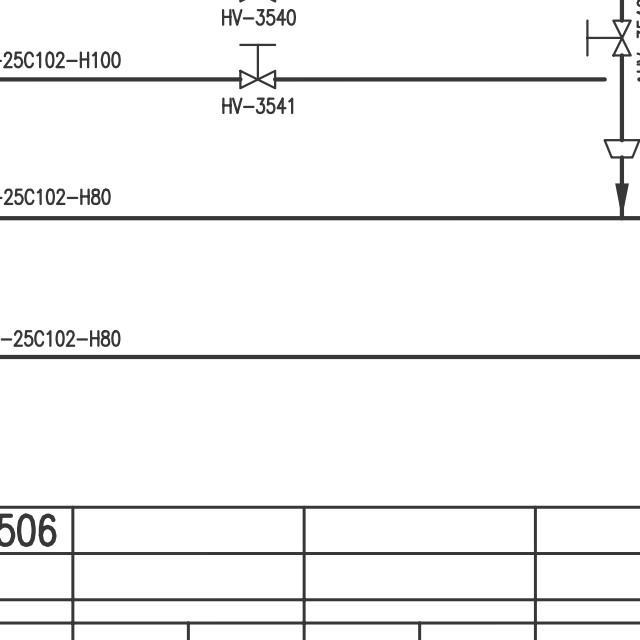HVWT: (232, 39, 284, 95), (576, 15, 636, 63)
SP: (599, 133, 640, 162)
